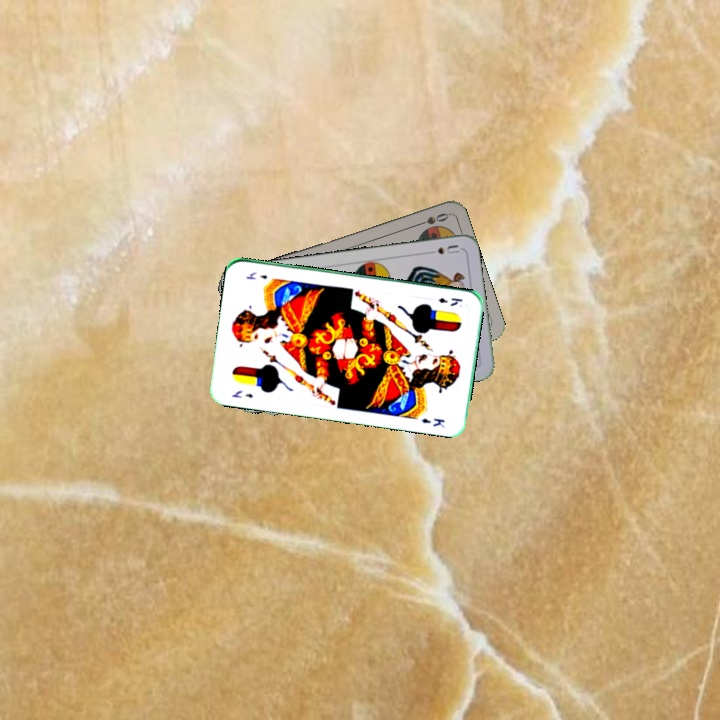EK: (435, 294, 465, 309), (227, 386, 255, 400)
SO: (411, 209, 451, 229)
SU: (422, 241, 462, 258)
